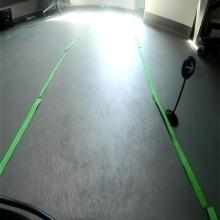right: (182, 55, 196, 80)
